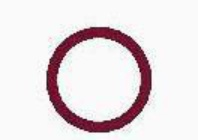RadioButton: (1, 1, 197, 139)
